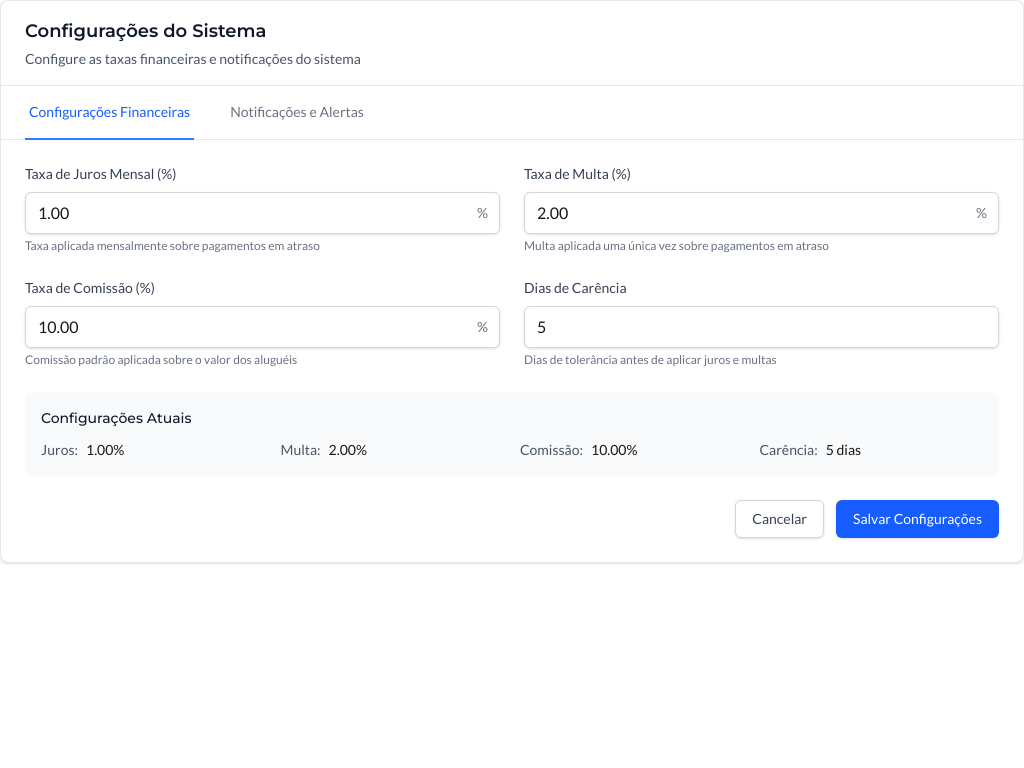
ConfiguracoesFinanceiras › deve validar os campos do formulário financeiro
expect the heading "Configurações do Sistema" is shown: met, box [25,20,266,42]
// Inserir valor inválido na taxa de juros
In the number field labelled "Taxa de Juros Mensal (%)": [262, 213] box [25,192,500,234], type "150"
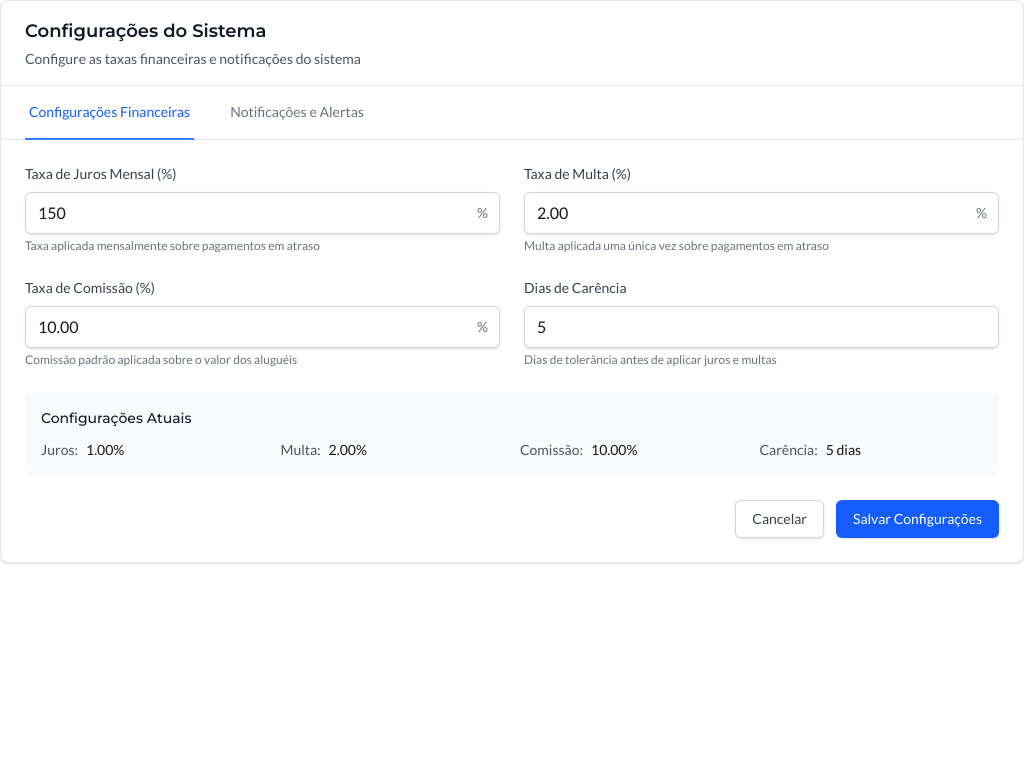
// Tentar salvar
Click the button "Salvar Configurações": [918, 519] box [836,500,999,538]
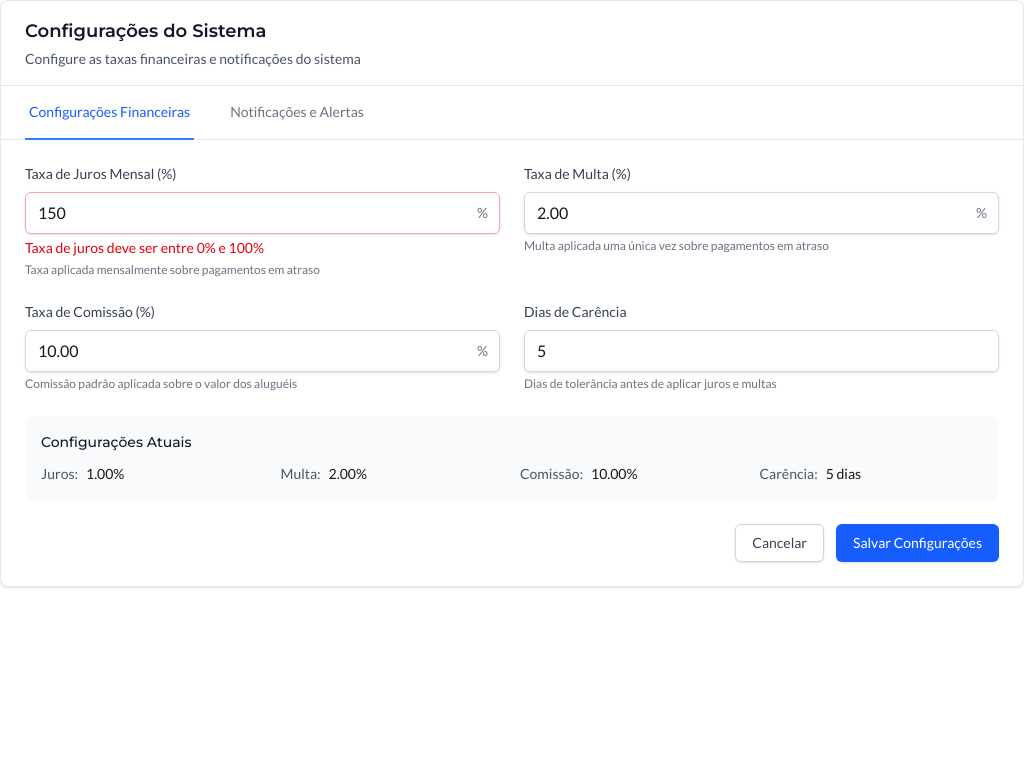
expect the text "Taxa de juros deve ser entre 0% e 100%" is shown: met, box [25,239,264,256]
